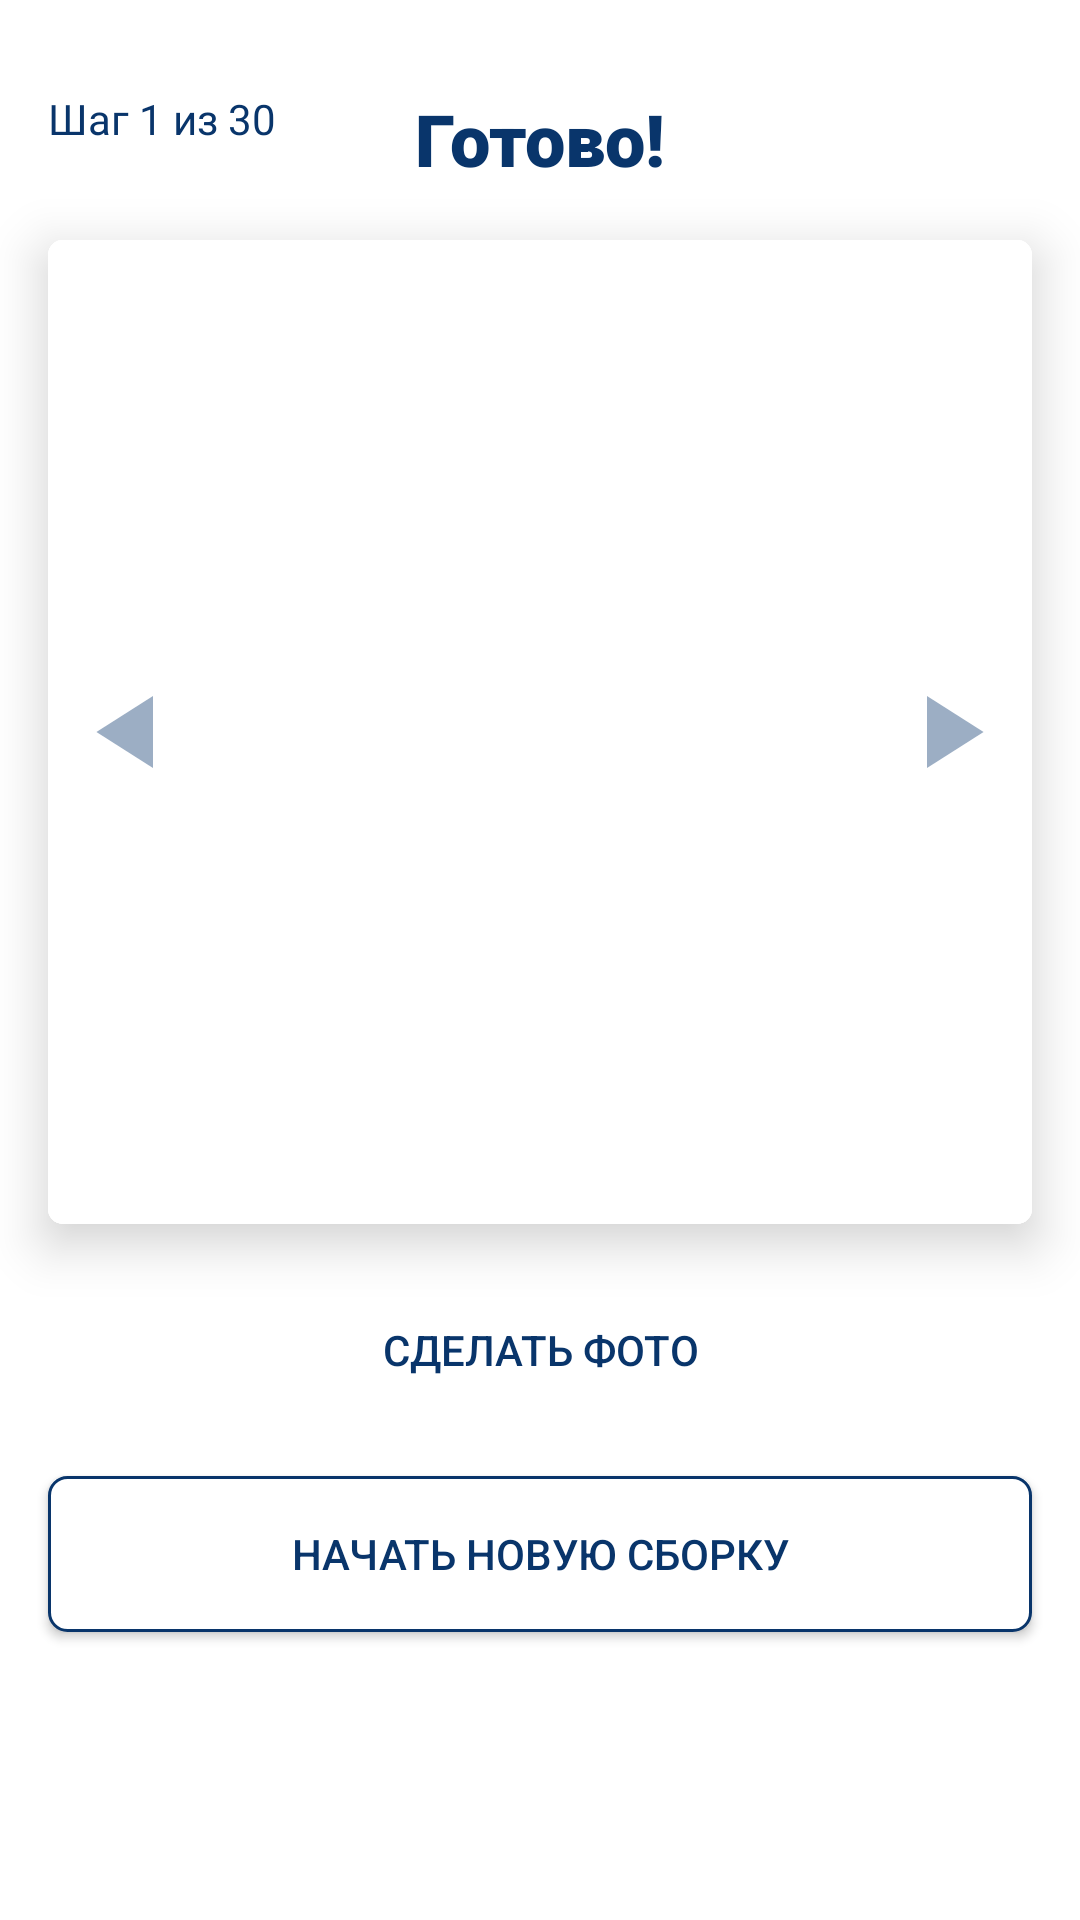

Point at icon controls on the screen. Image size 1080x1920, points as point (x, y).
arrow left: point (125, 732)
arrow right: point (955, 732)
